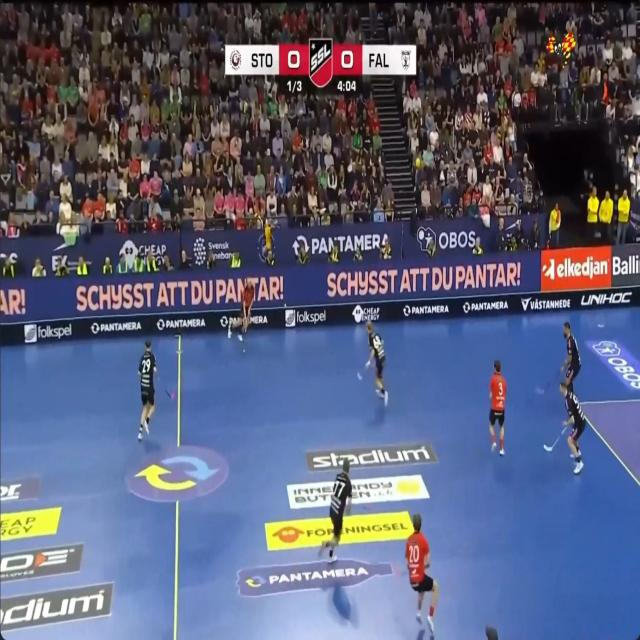Balls: (243, 349, 245, 353)
player: (406, 513, 437, 634), (319, 458, 351, 561), (560, 382, 585, 474), (138, 341, 158, 439), (365, 321, 388, 406), (228, 279, 255, 341), (489, 361, 506, 455), (561, 322, 581, 392)
stick: (535, 377, 554, 395), (543, 433, 562, 450), (165, 389, 174, 399), (364, 361, 370, 369), (356, 372, 362, 379), (562, 426, 567, 434)
